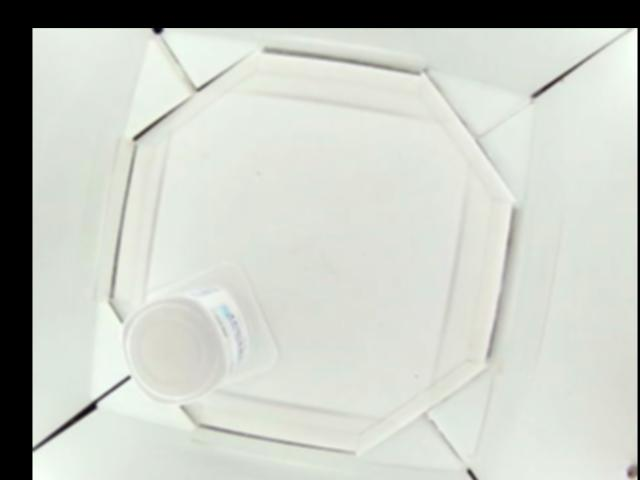Cup: (121, 258, 277, 403)
